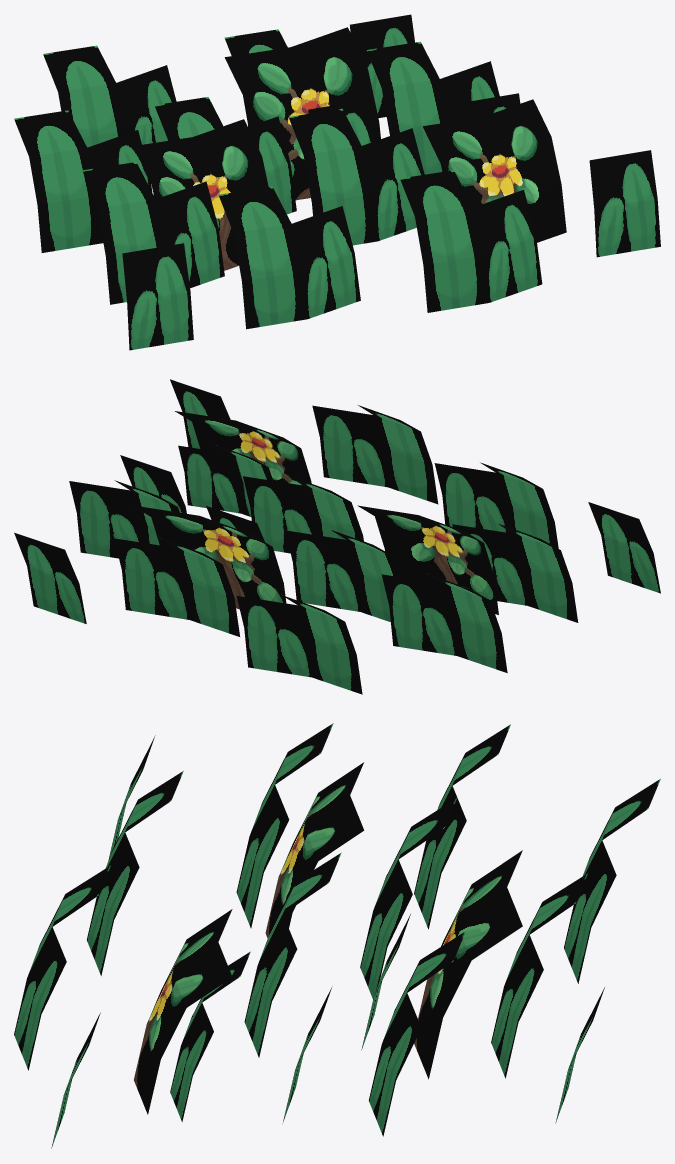
File: grass_2.gltf
3 renders of one model, top to bottom at view 1: azimuth 30°, elevation 25°; view 2: azimuth 150°, elevation 25°; view 3: azimuth 270°, elevation 25°, orthographic. The views are drawn at different scales.
Parts seen in each view (by area): view 1: Grass2Mesh; view 2: Grass2Mesh; view 3: Grass2Mesh.
Boxes of the visible parts, bbox=[...] form: Grass2Mesh: bbox=[14, 14, 660, 350]; Grass2Mesh: bbox=[14, 379, 660, 694]; Grass2Mesh: bbox=[14, 723, 660, 1148].
Bounding box in the file's own units: 2.03 × 0.461 × 1.76.
Materials: 1 (1 with a texture image).
